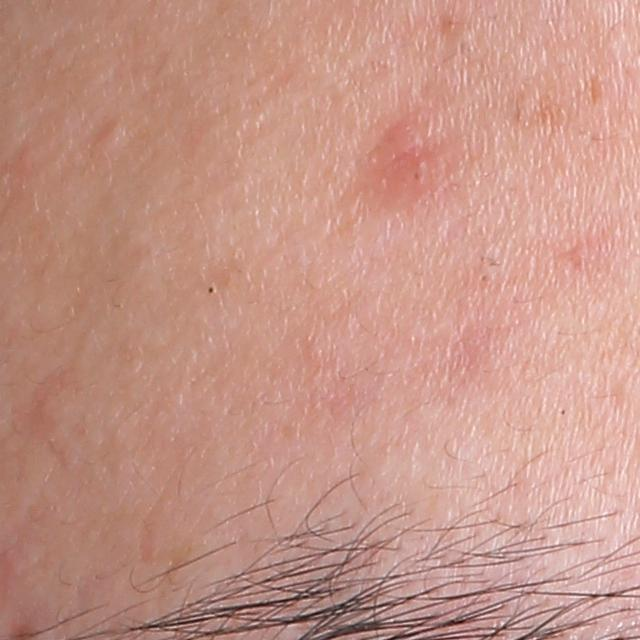comedo: (472, 268, 497, 288)
papule: (372, 121, 444, 196)
